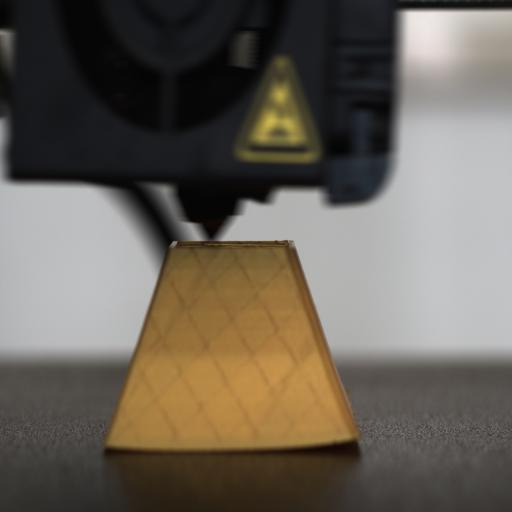warp: (274, 415, 366, 460)
